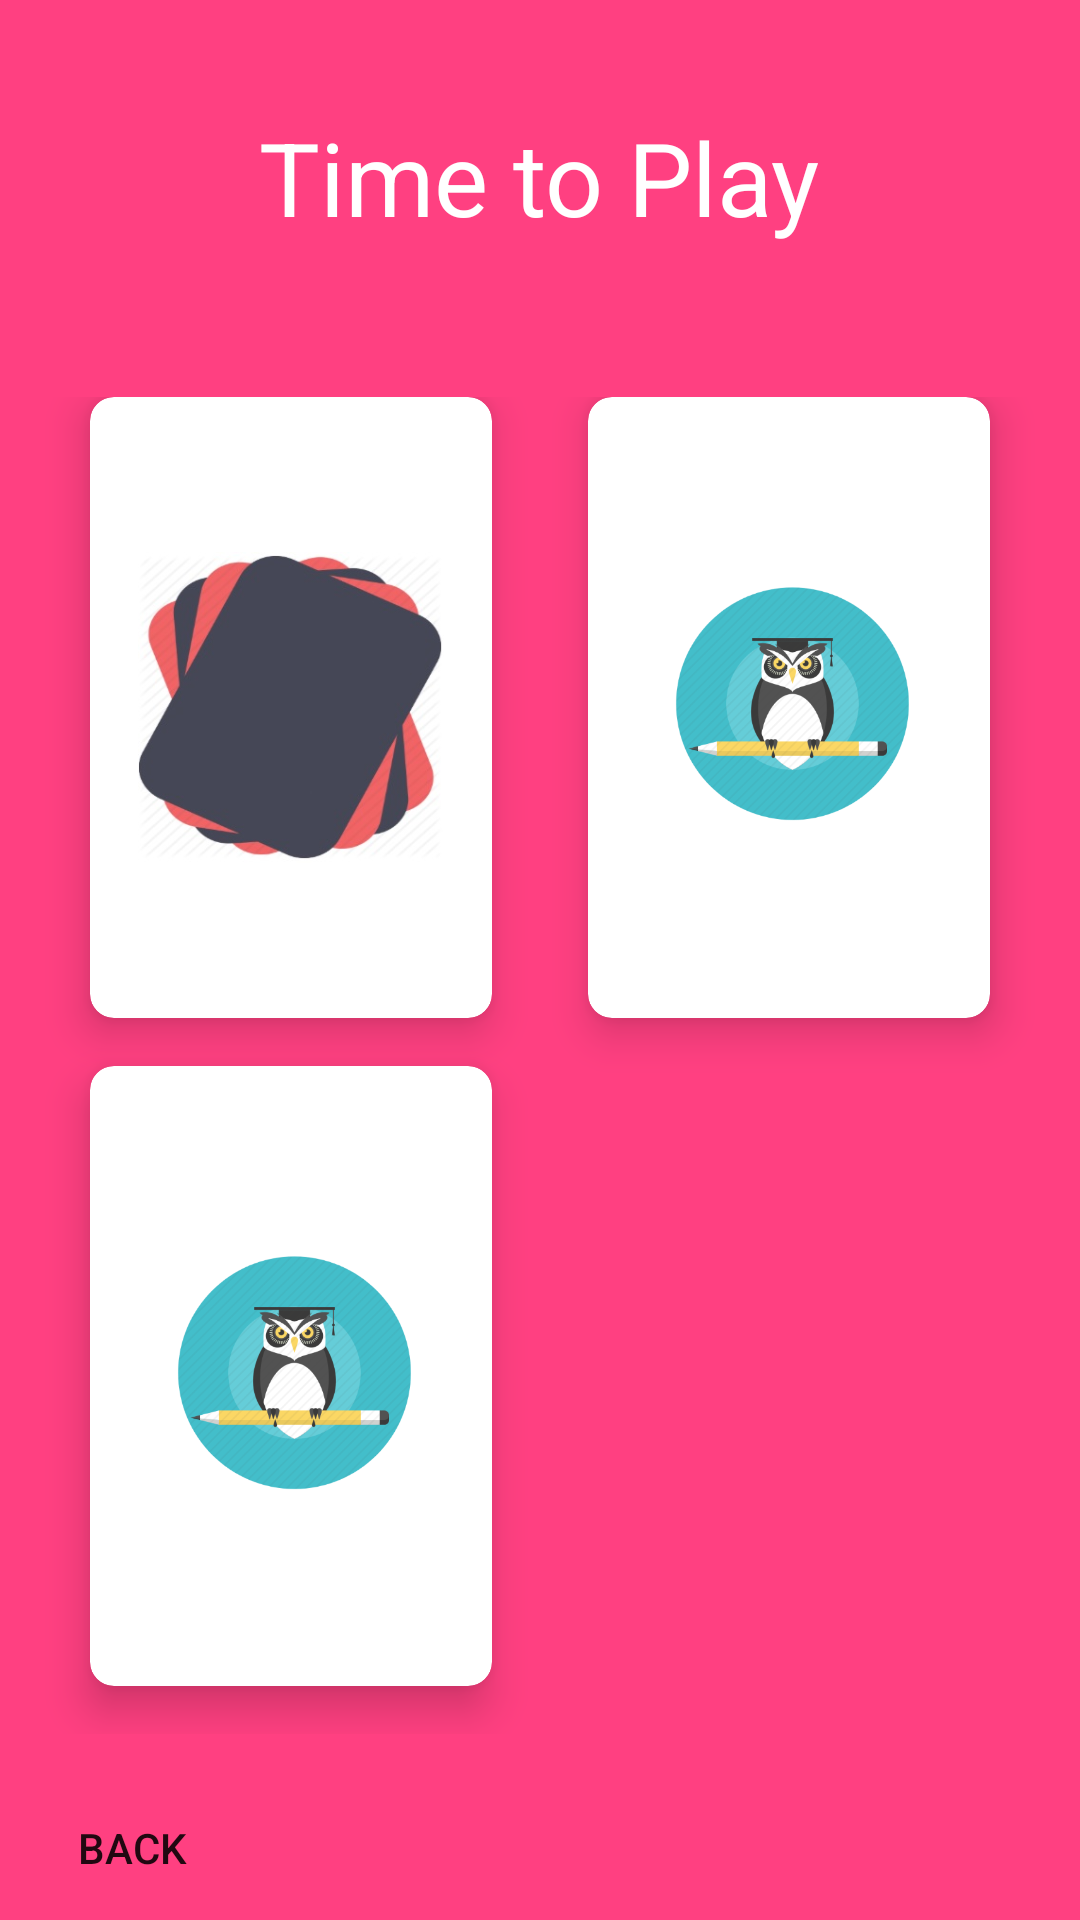

Point at icon controls on the screen. Image size 1080×1920, points as [x,y].
cards match: [290,707]
